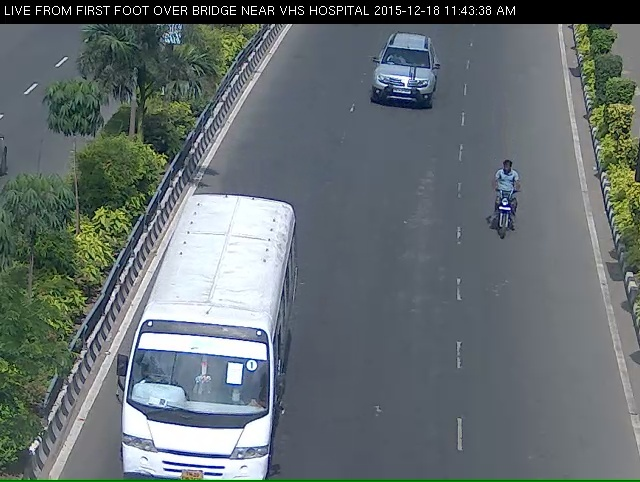Bus: (129, 187, 280, 481)
Car: (357, 41, 446, 122)
Person: (487, 161, 525, 255)
